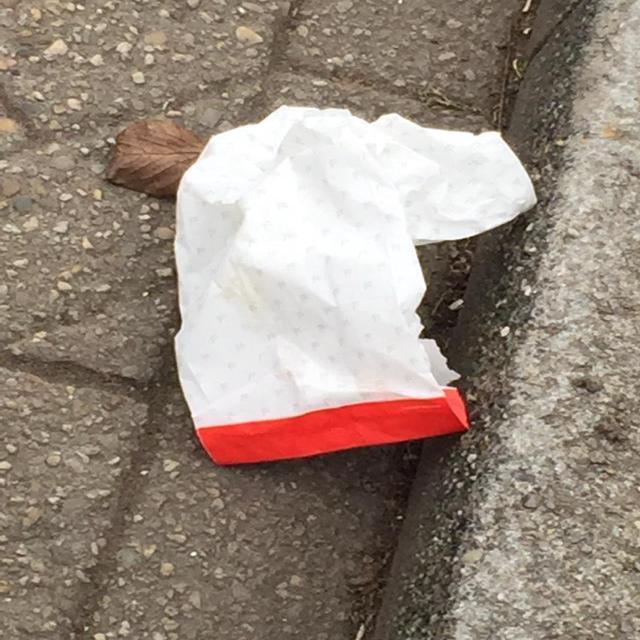Paper: (170, 102, 546, 469)
